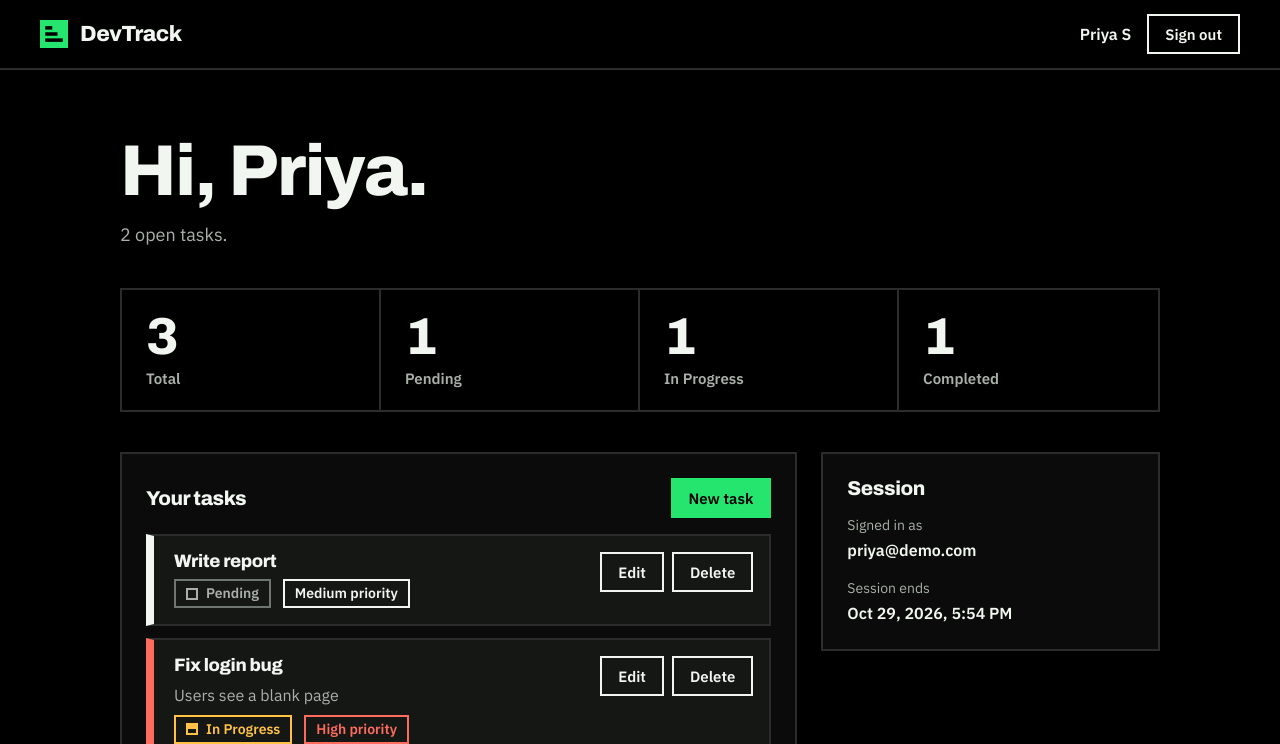
Test case: Dashboard: delete › shows an error banner and keeps the task when the delete fails
Expected: the heading "Hi, Priya." is shown, [120,132,428,210]
Click the button with aria-label "Delete Write report" at (713, 572), box [672,552,753,592]
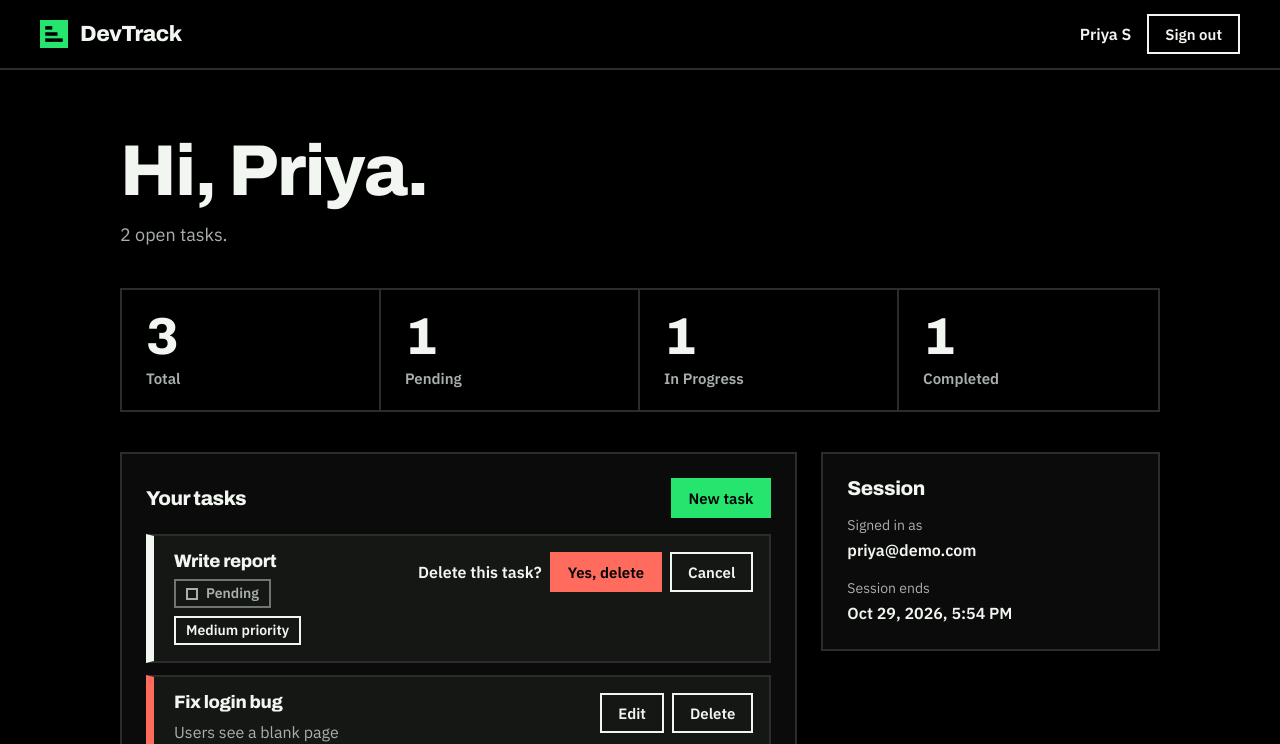
Click the button "Yes, delete" at (606, 572), box [550,552,662,592]
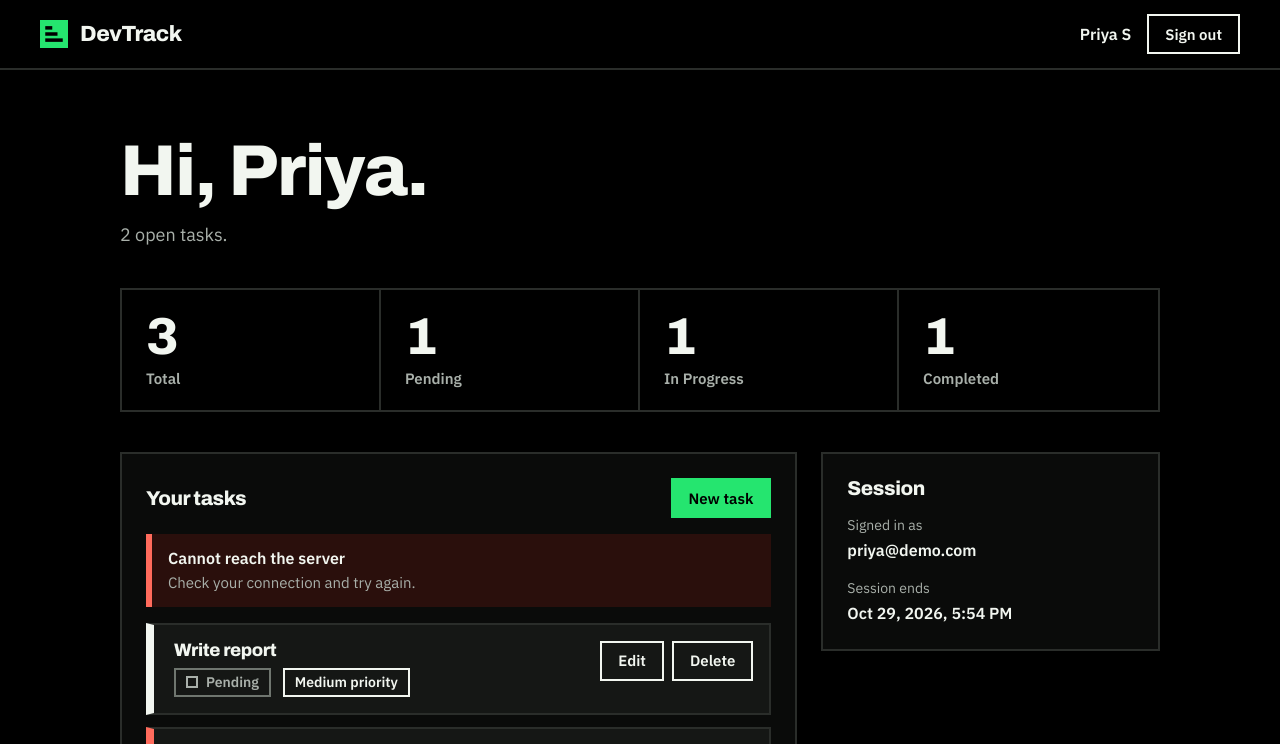
Expected: the heading "Write report" is shown, [174,640,276,660]
Expected: the message shows "Cannot reach the server", [168,548,345,568]
